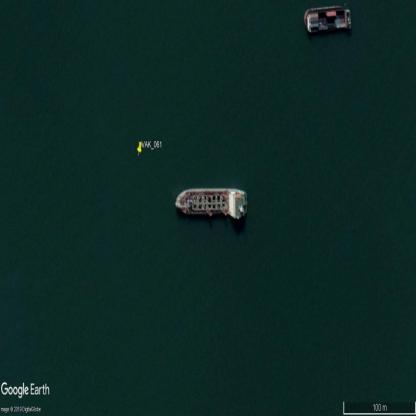ship: (176, 188, 248, 220), (302, 5, 352, 38)
